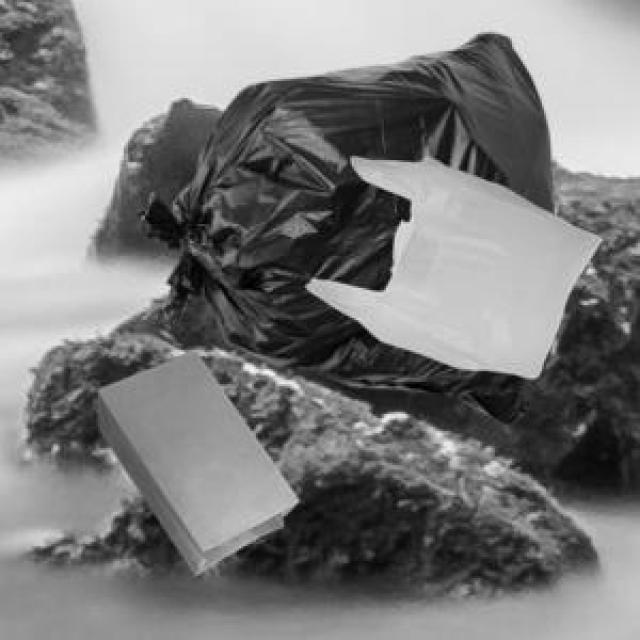miscellaneous trash: (132, 28, 550, 418)
paper: (94, 348, 294, 570)
